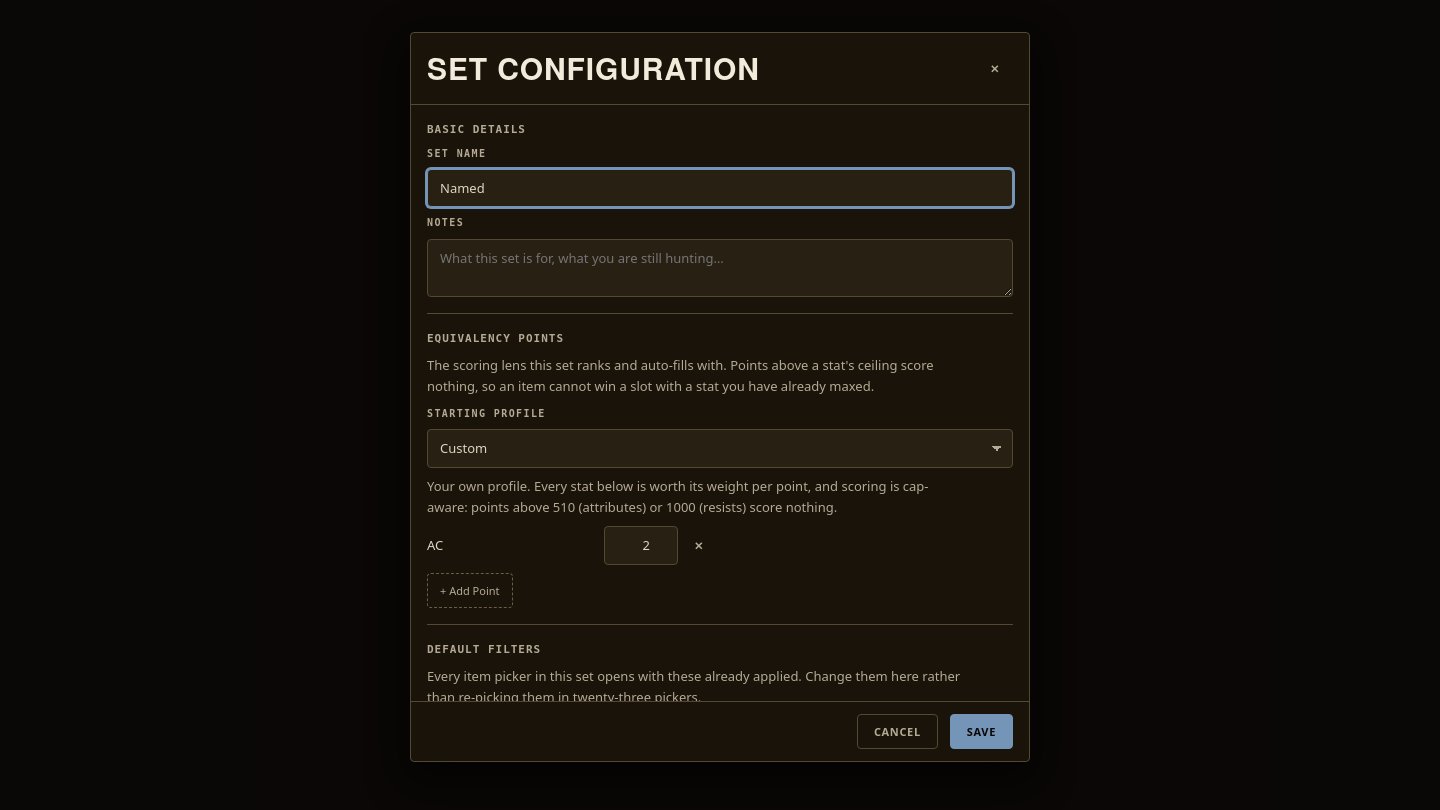
validation › refuses a profile with nothing weighted, and says why
Expected: the button "Save" is enabled, top-left (950, 714), bottom-right (1013, 749)
Click the button named "Remove AC".
click(699, 546)  # box top-left (686, 532), bottom-right (712, 558)
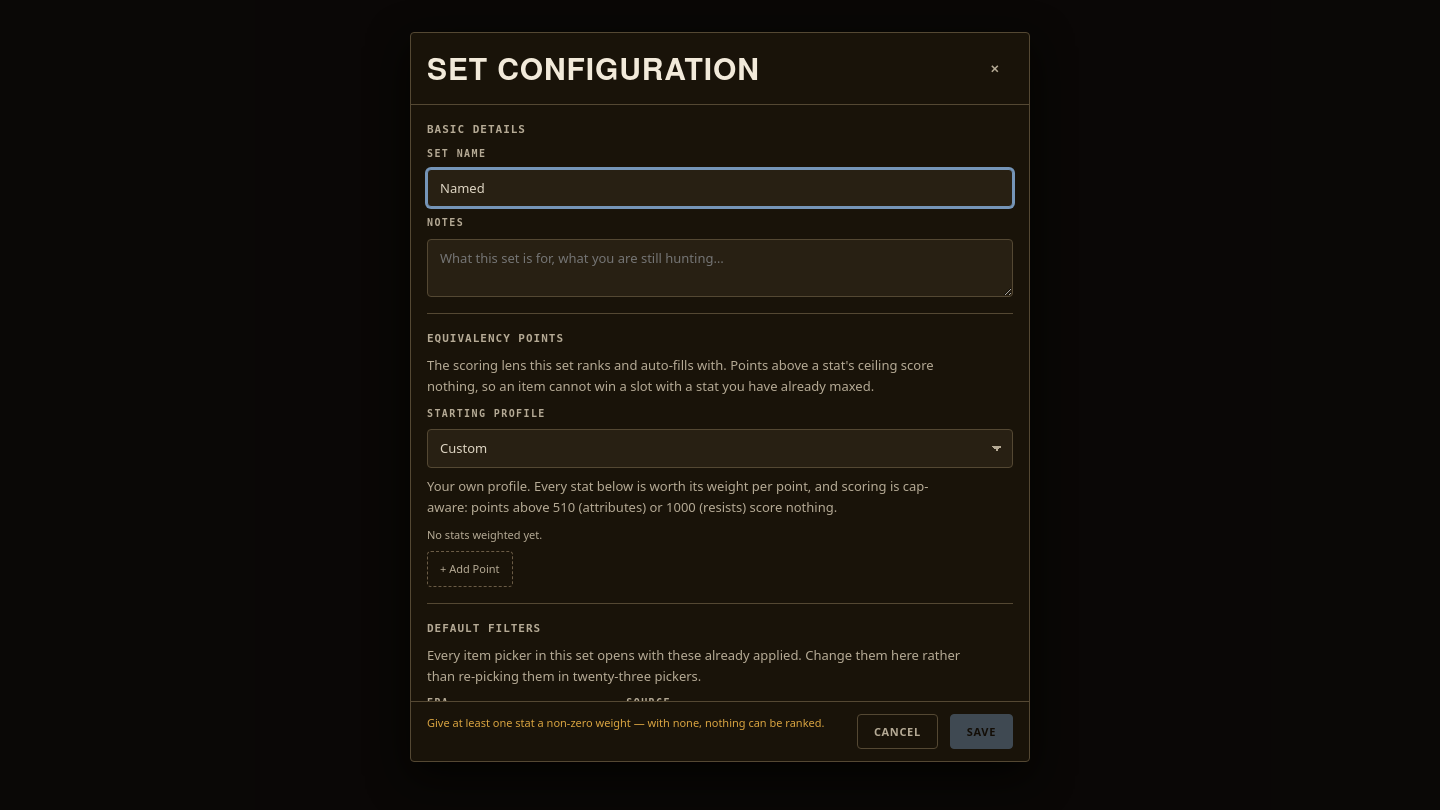
Expected: the button "Save" is disabled, top-left (950, 714), bottom-right (1013, 749)
Expected: the text "non-zero weight" is shown, top-left (427, 715), bottom-right (824, 730)
